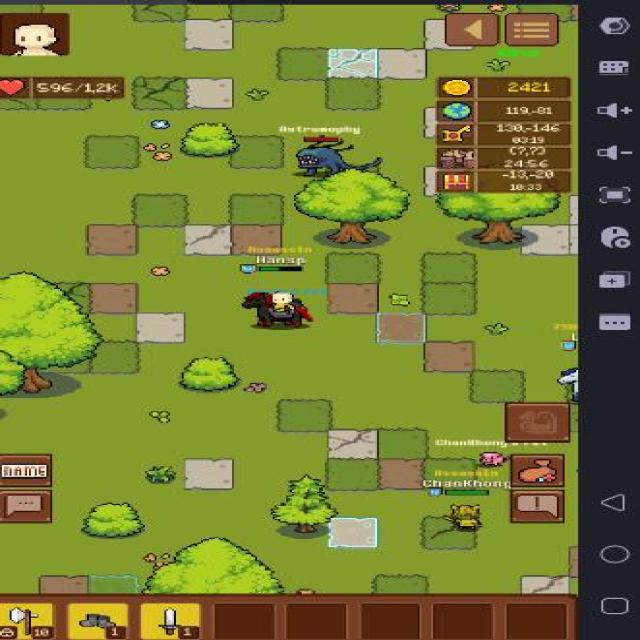astromophy: (280, 124, 387, 180), (560, 366, 590, 401)
earth_square: (377, 312, 427, 342), (425, 342, 474, 372), (327, 283, 377, 312), (230, 225, 280, 252), (91, 283, 137, 312), (379, 458, 423, 488), (89, 226, 137, 253), (41, 574, 89, 593)
grass: (141, 465, 174, 483), (142, 553, 177, 568), (151, 263, 178, 282), (435, 2, 467, 16), (484, 0, 510, 13), (388, 292, 412, 306), (479, 322, 506, 333), (249, 85, 264, 103)
gray_square: (327, 517, 379, 547), (327, 430, 377, 459), (327, 49, 377, 78), (137, 312, 184, 342), (379, 49, 427, 78), (184, 77, 230, 107), (184, 458, 230, 488), (520, 226, 571, 253), (184, 20, 230, 49), (184, 226, 230, 253), (520, 577, 569, 593), (425, 20, 445, 49)
green_square: (461, 366, 534, 406), (418, 512, 484, 554), (320, 75, 389, 112), (319, 252, 389, 288), (371, 424, 433, 462), (424, 454, 482, 494), (91, 340, 146, 376), (276, 398, 331, 432), (85, 135, 139, 167), (134, 195, 188, 227), (227, 135, 280, 167), (422, 252, 476, 283), (422, 282, 476, 313), (131, 76, 182, 108), (368, 572, 434, 596), (276, 48, 327, 79), (78, 572, 144, 595), (230, 194, 280, 223), (35, 94, 101, 114), (130, 5, 186, 21), (230, 3, 282, 20), (0, 94, 43, 113)
mouse: (238, 288, 324, 332)
player: (444, 499, 487, 532), (268, 288, 303, 318)
tree: (0, 270, 106, 400), (294, 163, 412, 244), (139, 532, 286, 594), (439, 190, 561, 244), (269, 474, 338, 532), (79, 501, 145, 538), (180, 356, 242, 391), (178, 121, 238, 157)
